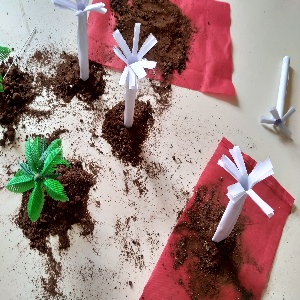plant: (6, 135, 74, 217)
weed: (202, 140, 273, 249), (105, 23, 159, 132), (52, 1, 108, 85), (250, 54, 296, 139)
